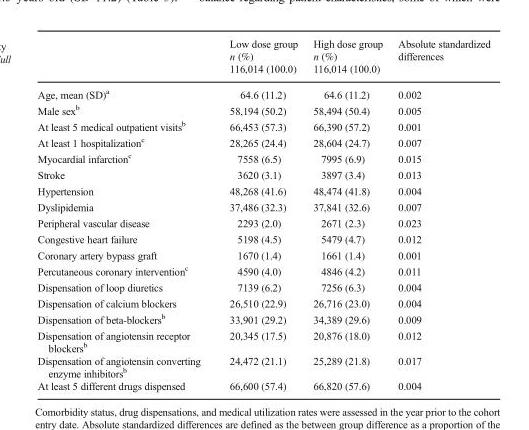table: (36, 37, 489, 391)
table column: (36, 37, 214, 391), (389, 37, 489, 391), (214, 37, 304, 391), (304, 37, 389, 391)
table column header: (36, 37, 489, 80)
table row: (36, 327, 489, 354), (36, 37, 489, 62), (36, 354, 489, 379), (36, 80, 489, 101), (36, 62, 489, 80), (36, 149, 489, 166), (36, 310, 489, 327), (36, 101, 489, 117), (36, 117, 489, 133), (36, 133, 489, 149), (36, 166, 489, 182), (36, 182, 489, 198), (36, 198, 489, 214), (36, 214, 489, 230), (36, 230, 489, 246), (36, 246, 489, 262), (36, 262, 489, 278), (36, 278, 489, 294), (36, 294, 489, 310), (36, 379, 489, 391)
table spanning cell: (389, 37, 489, 80), (214, 37, 304, 80), (304, 37, 389, 80)
